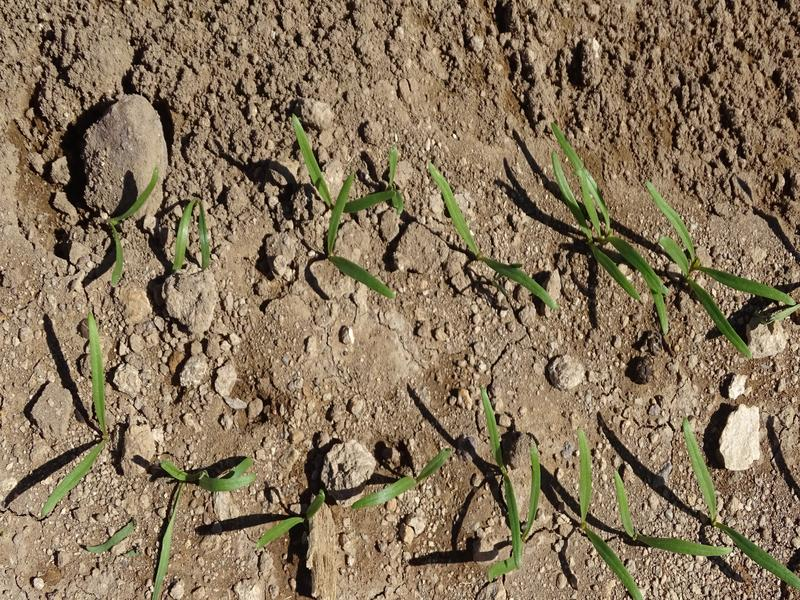Espinaca: (430, 151, 795, 358), (573, 441, 798, 595), (285, 113, 411, 297), (474, 392, 546, 573), (95, 181, 228, 277), (147, 448, 252, 567), (48, 316, 107, 503), (357, 451, 458, 507), (257, 491, 328, 551)
